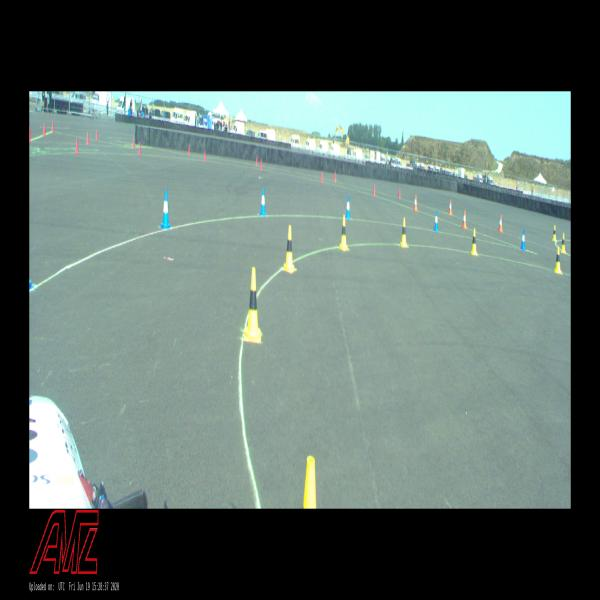blue_cone: (161, 189, 170, 229), (260, 188, 266, 215), (520, 229, 526, 250), (346, 195, 350, 218), (434, 210, 438, 232)
orange_cone: (462, 210, 467, 229), (498, 215, 503, 232), (414, 195, 418, 211), (449, 200, 452, 215)
yellow_cone: (244, 268, 261, 342), (302, 456, 317, 509), (284, 225, 294, 273), (340, 216, 347, 250), (554, 247, 562, 273), (400, 219, 407, 247), (471, 228, 477, 255), (560, 234, 566, 252), (552, 225, 556, 241)
